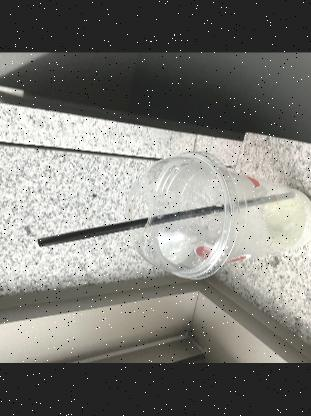Others: (124, 147, 311, 281), (124, 147, 240, 282), (38, 190, 291, 247)
